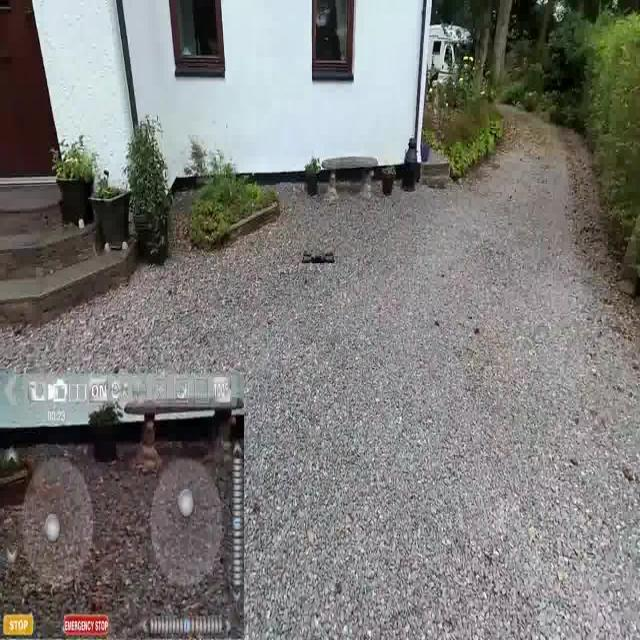drones: (301, 242, 340, 273)
